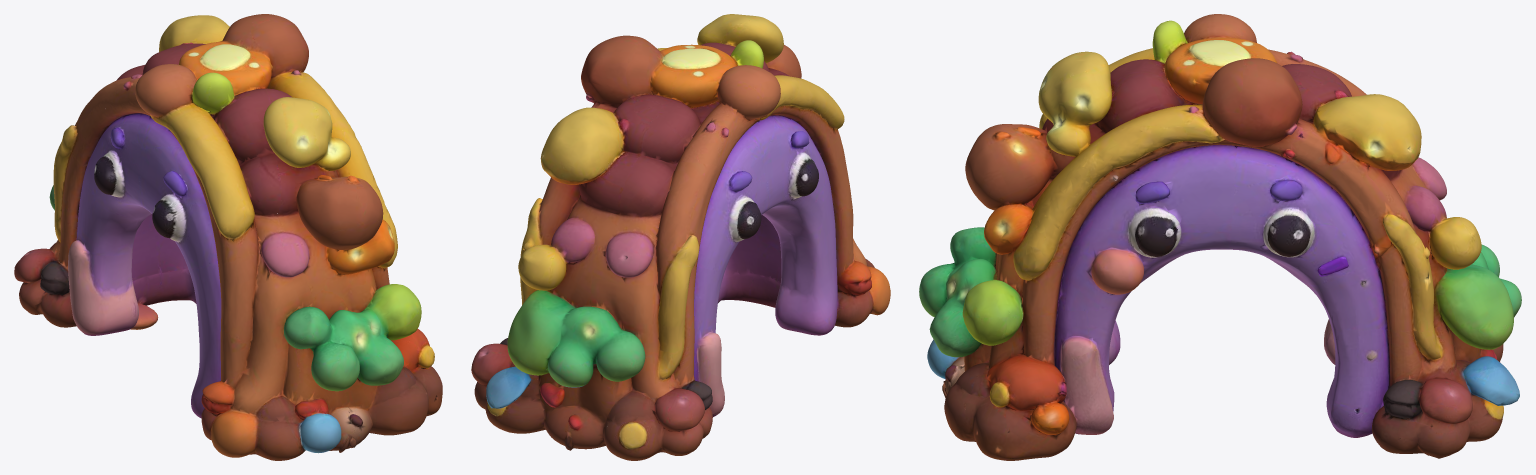
The model's file is env_nest_arch_02.glb.
3 renders of one model, left to right at view 1: azimuth 30°, elevation 25°; view 2: azimuth 150°, elevation 25°; view 3: azimuth 270°, elevation 25°, orthographic. The views are drawn at different scales.
Visible parts, largest first — view 1: tripo_node_8c6fded5-4f4c-4984-bbca-376d600f787e; view 2: tripo_node_8c6fded5-4f4c-4984-bbca-376d600f787e; view 3: tripo_node_8c6fded5-4f4c-4984-bbca-376d600f787e.
Boxes of the visible parts, x1=… form: tripo_node_8c6fded5-4f4c-4984-bbca-376d600f787e: x1=14, y1=14, x2=442, y2=460; tripo_node_8c6fded5-4f4c-4984-bbca-376d600f787e: x1=471, y1=14, x2=890, y2=460; tripo_node_8c6fded5-4f4c-4984-bbca-376d600f787e: x1=919, y1=14, x2=1521, y2=460.
Size of the model in its own units: 2.4 by 3.2 by 4.74.
Materials: 1 (1 with a texture image).
